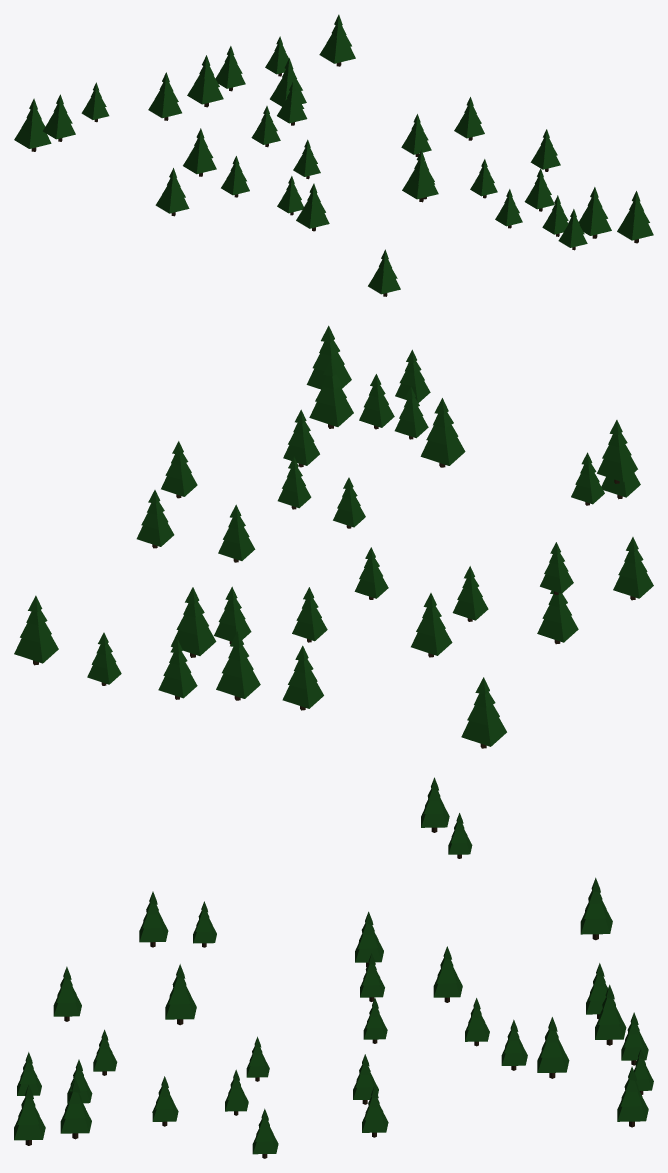
File: trees.fbx
3 renders of one model, top to bottom at view 1: azimuth 30°, elevation 25°; view 2: azimuth 150°, elevation 25°; view 3: azimuth 270°, elevation 25°, orthographic. The views are drawn at different scales.
Visible parts, largest first — view 1: null4; view 2: null4; view 3: null4.
Part boxes in pixels (bbox=[...]): null4: bbox=[14, 14, 653, 296]; null4: bbox=[14, 325, 653, 748]; null4: bbox=[14, 777, 653, 1158].
Size of the model in its own units: 92.84 by 26.06 by 102.
